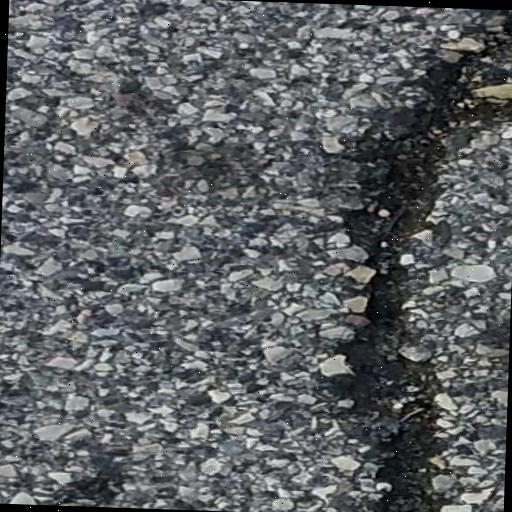spalling: (317, 11, 512, 512)
